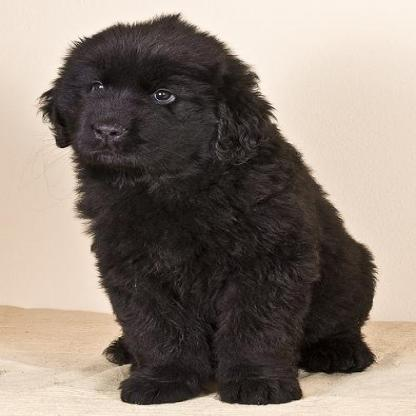Newfoundland: (35, 6, 388, 408)
